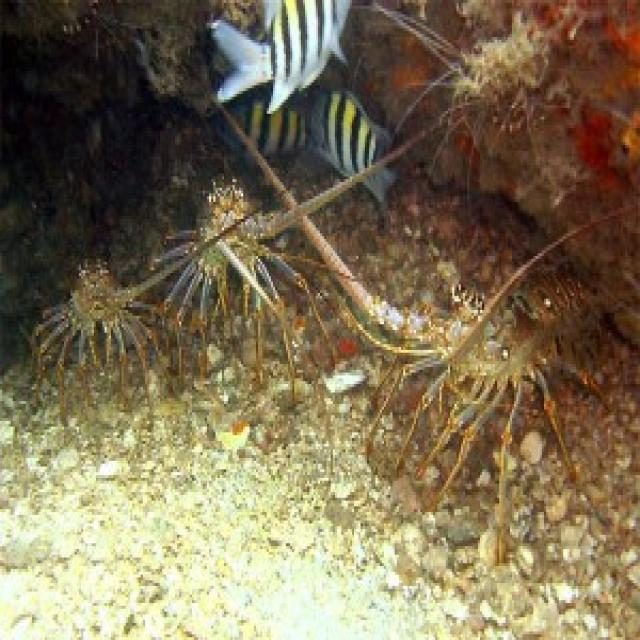lobsters: (359, 242, 619, 566), (154, 129, 336, 369), (12, 202, 183, 402)
